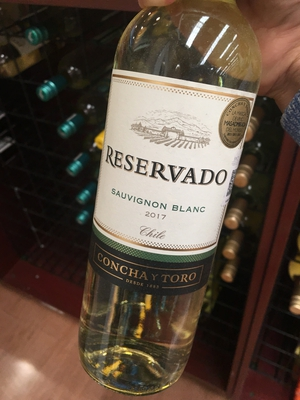reservado sauvignon blanc: (86, 18, 259, 400)
